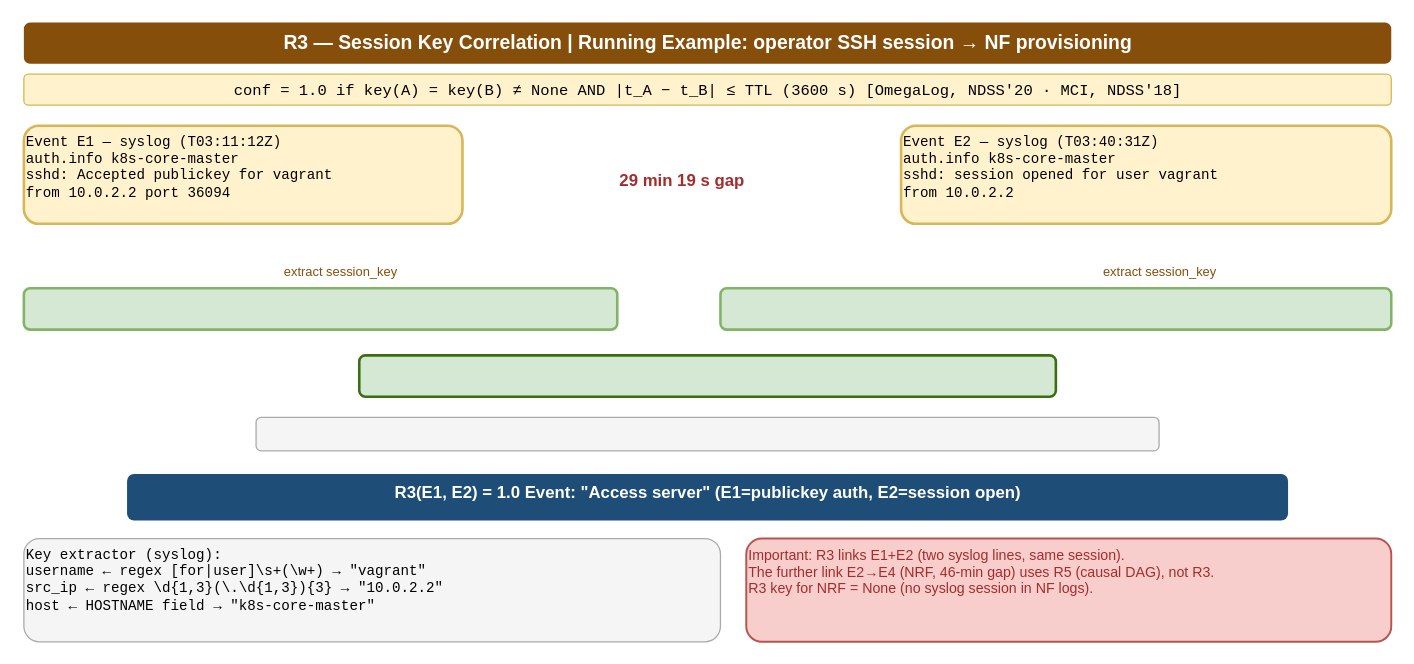
The diagram is 1414 pixels wide and 664 high, and some of its shapes have lost their labels. Each missing label, with the centre of its shape:
KEY MATCH => key(E1) = key(E2): point 707,375
key(E1) = ("vagrant", "10.0.2.2", "k8s-core-master"): point 320,308
key(E2) = ("vagrant", "10.0.2.2", "k8s-core-master"): point 1055,308
|T03:40:31 − T03:11:12| = 1759 s ≤ TTL = 3600 s ✓ within session TTL: point 707,433
